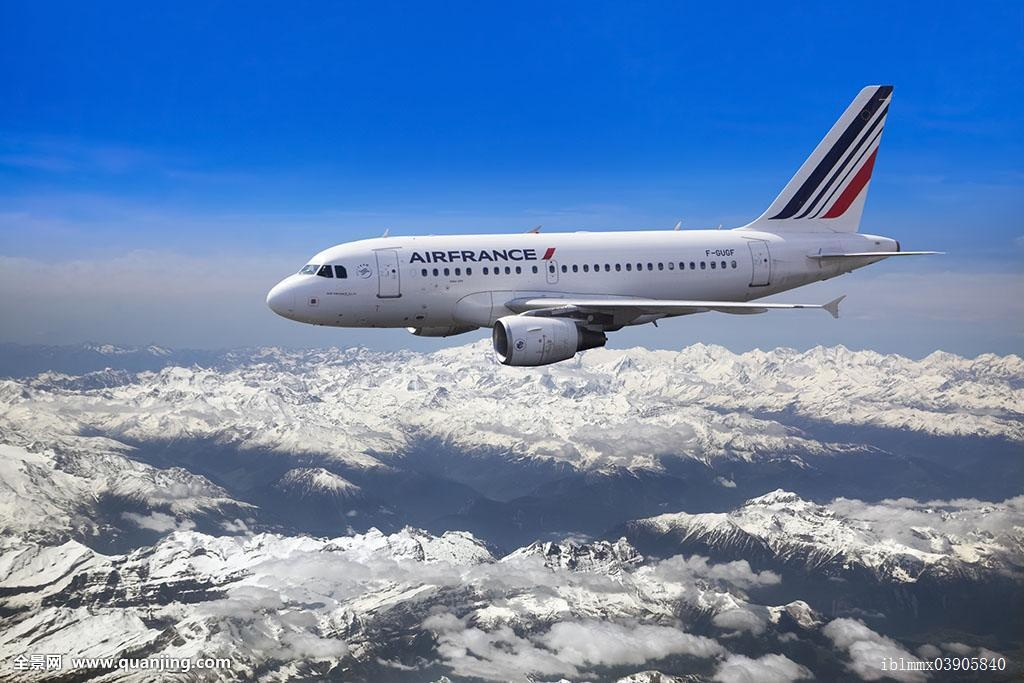airplane: (264, 81, 950, 366)
